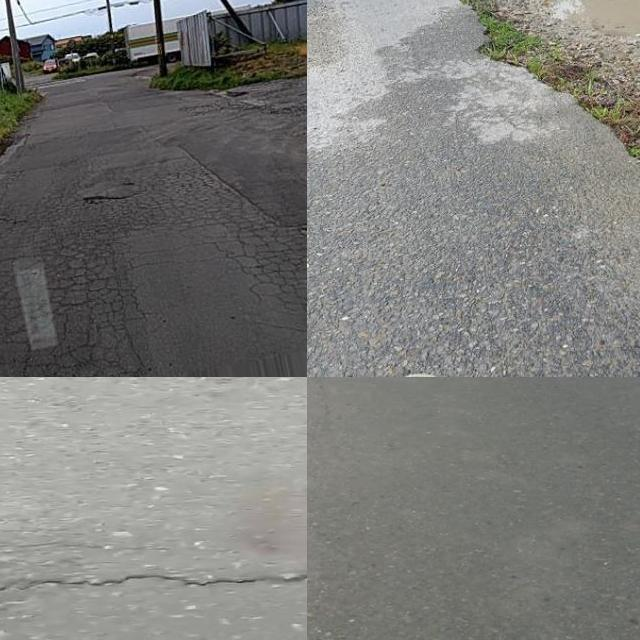Melintang: (0, 556, 307, 602)
Pinggir: (424, 0, 640, 226)
Retak Buaya: (0, 146, 307, 377)
